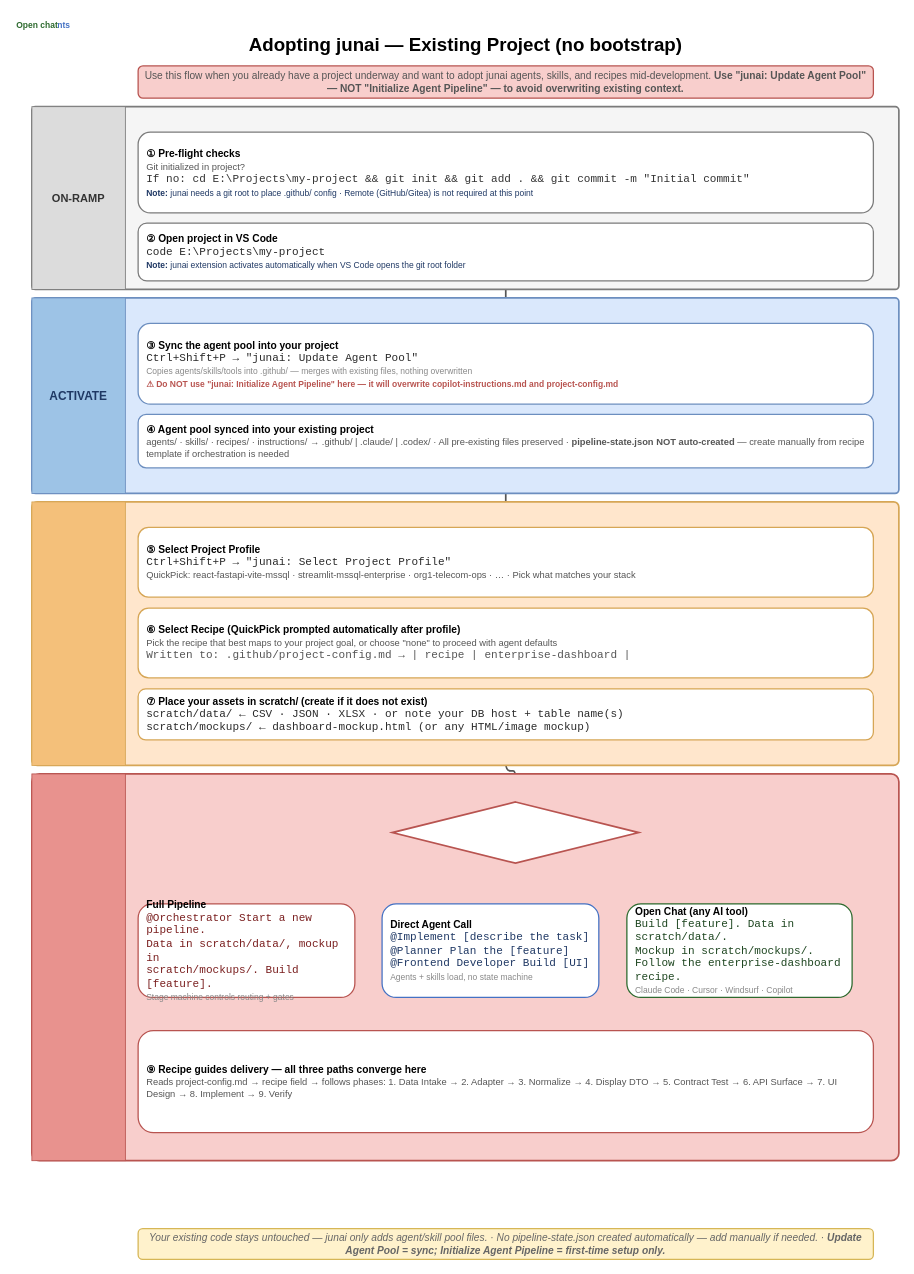
Some shapes in this 914 by 1274 pixel diagram are drawn without their labels. The box of each missing label's shape, as (x1, y1, x2, y2) in pixels:
AIM: (31, 501, 125, 765)
RUN: (31, 773, 125, 1161)
⑧ How do you want to work?: (391, 801, 639, 864)
